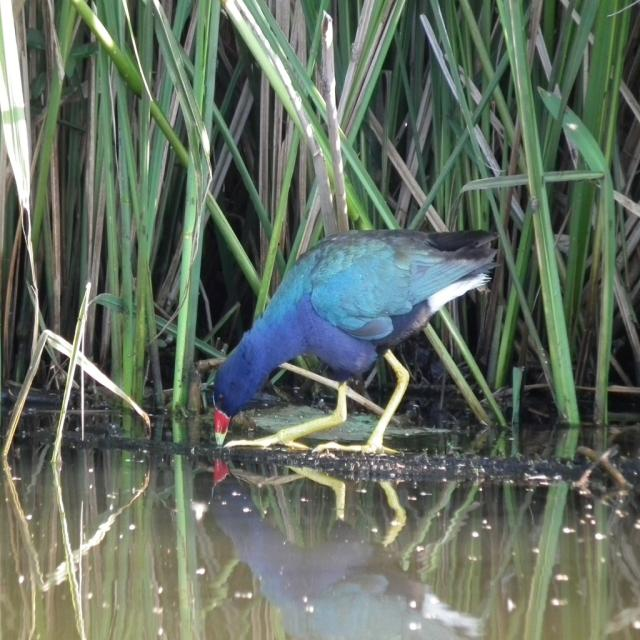bird: (192, 211, 502, 467)
